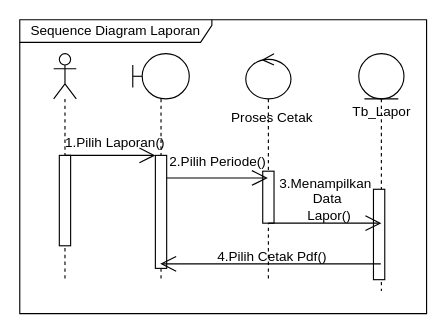
The diagram is 446 pixels wide and 333 high, and some of its shapes have lost their labels. The box of each missing label's shape, as (x1, y1, x2, y2) in pixels:
Admin dan Ketua: (53, 53, 76, 280)
Menu Laporan: (132, 53, 189, 280)
